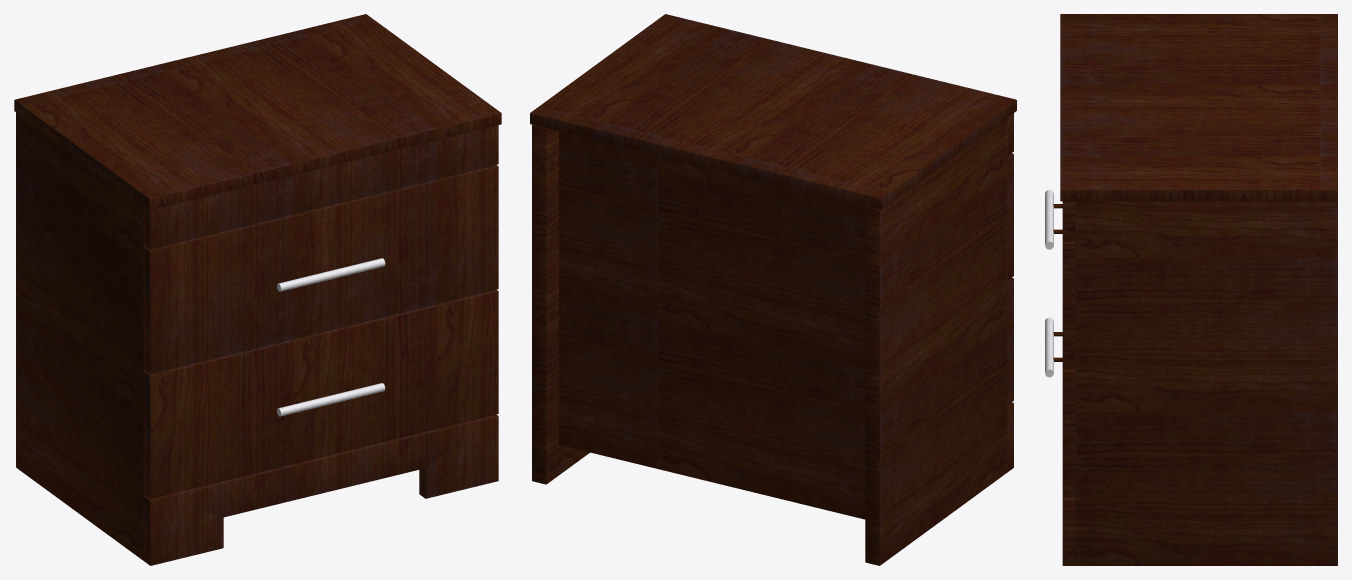
File: nightstand.obj
3 views of the same model, side by side, from view 1: azimuth 30°, elevation 25°; view 2: azimuth 150°, elevation 25°; view 3: azimuth 270°, elevation 25° (orthographic). The views are drawn at different scales.
Parts seen in each view (by area): view 1: Mesh1 board_top1 Nightstand_Two_Drawers1 moravacmilos_watermark1, Mesh15 side_board2 Nightstand_Two_Drawers1 moravacmilos_watermar, Mesh8 board_front_top_1_1 Nightstand_Two_Drawers1 moravacmilos_w, Mesh14 board_front_top_5_1 Nightstand_Two_Drawers1 moravacmilos_, Mesh3 board_front_top_2_1 Nightstand_Two_Drawers1 moravacmilos_w, Mesh2 board_front_top1 Nightstand_Two_Drawers1 moravacmilos_wate, Mesh13 pull_roll_2_2 pull2 board_front_top_5_1 Nightstand_Two_Dr, Mesh7 pull_roll_2_1 pull1 board_front_top_1_1 Nightstand_Two_Dra; view 2: Mesh9 back_board1 Nightstand_Two_Drawers1 moravacmilos_watermark, Mesh1 board_top1 Nightstand_Two_Drawers1 moravacmilos_watermark1, Mesh15 side_board2 Nightstand_Two_Drawers1 moravacmilos_watermar, Mesh4 side_board1 Nightstand_Two_Drawers1 moravacmilos_watermark, Mesh8 board_front_top_1_1 Nightstand_Two_Drawers1 moravacmilos_w, Mesh14 board_front_top_5_1 Nightstand_Two_Drawers1 moravacmilos_; view 3: Mesh4 side_board1 Nightstand_Two_Drawers1 moravacmilos_watermark, Mesh1 board_top1 Nightstand_Two_Drawers1 moravacmilos_watermark1, Mesh14 board_front_top_5_1 Nightstand_Two_Drawers1 moravacmilos_, Mesh8 board_front_top_1_1 Nightstand_Two_Drawers1 moravacmilos_w, Mesh3 board_front_top_2_1 Nightstand_Two_Drawers1 moravacmilos_w, Mesh2 board_front_top1 Nightstand_Two_Drawers1 moravacmilos_wate, Mesh13 pull_roll_2_2 pull2 board_front_top_5_1 Nightstand_Two_Dr, Mesh7 pull_roll_2_1 pull1 board_front_top_1_1 Nightstand_Two_Dra.
Part boxes in pixels (x1,y1,x2,y2): Mesh1 board_top1 Nightstand_Two_Drawers1 moravacmilos_watermark1: (14,14,501,209); Mesh15 side_board2 Nightstand_Two_Drawers1 moravacmilos_watermar: (16,112,146,560); Mesh8 board_front_top_1_1 Nightstand_Two_Drawers1 moravacmilos_w: (144,165,498,373); Mesh14 board_front_top_5_1 Nightstand_Two_Drawers1 moravacmilos_: (144,289,498,498); Mesh3 board_front_top_2_1 Nightstand_Two_Drawers1 moravacmilos_w: (144,414,498,565); Mesh2 board_front_top1 Nightstand_Two_Drawers1 moravacmilos_wate: (144,125,498,249); Mesh13 pull_roll_2_2 pull2 board_front_top_5_1 Nightstand_Two_Dr: (277,383,385,416); Mesh7 pull_roll_2_1 pull1 board_front_top_1_1 Nightstand_Two_Dra: (277,258,385,291); Mesh9 back_board1 Nightstand_Two_Drawers1 moravacmilos_watermark: (559,131,865,519); Mesh1 board_top1 Nightstand_Two_Drawers1 moravacmilos_watermark1: (530,14,1016,209); Mesh15 side_board2 Nightstand_Two_Drawers1 moravacmilos_watermar: (865,118,1007,565); Mesh4 side_board1 Nightstand_Two_Drawers1 moravacmilos_watermark: (532,125,589,484); Mesh8 board_front_top_1_1 Nightstand_Two_Drawers1 moravacmilos_w: (1007,153,1013,280); Mesh14 board_front_top_5_1 Nightstand_Two_Drawers1 moravacmilos_: (1007,278,1013,404); Mesh4 side_board1 Nightstand_Two_Drawers1 moravacmilos_watermark: (1075,201,1337,565); Mesh1 board_top1 Nightstand_Two_Drawers1 moravacmilos_watermark1: (1060,14,1337,201); Mesh14 board_front_top_5_1 Nightstand_Two_Drawers1 moravacmilos_: (1062,369,1075,497); Mesh8 board_front_top_1_1 Nightstand_Two_Drawers1 moravacmilos_w: (1062,241,1075,369); Mesh3 board_front_top_2_1 Nightstand_Two_Drawers1 moravacmilos_w: (1062,497,1075,565); Mesh2 board_front_top1 Nightstand_Two_Drawers1 moravacmilos_wate: (1062,201,1075,241); Mesh13 pull_roll_2_2 pull2 board_front_top_5_1 Nightstand_Two_Dr: (1045,317,1053,377); Mesh7 pull_roll_2_1 pull1 board_front_top_1_1 Nightstand_Two_Dra: (1045,189,1053,249).
Size of the model in its own units: 98.54 by 98.54 by 69.3.
2 materials, 2 textured.
